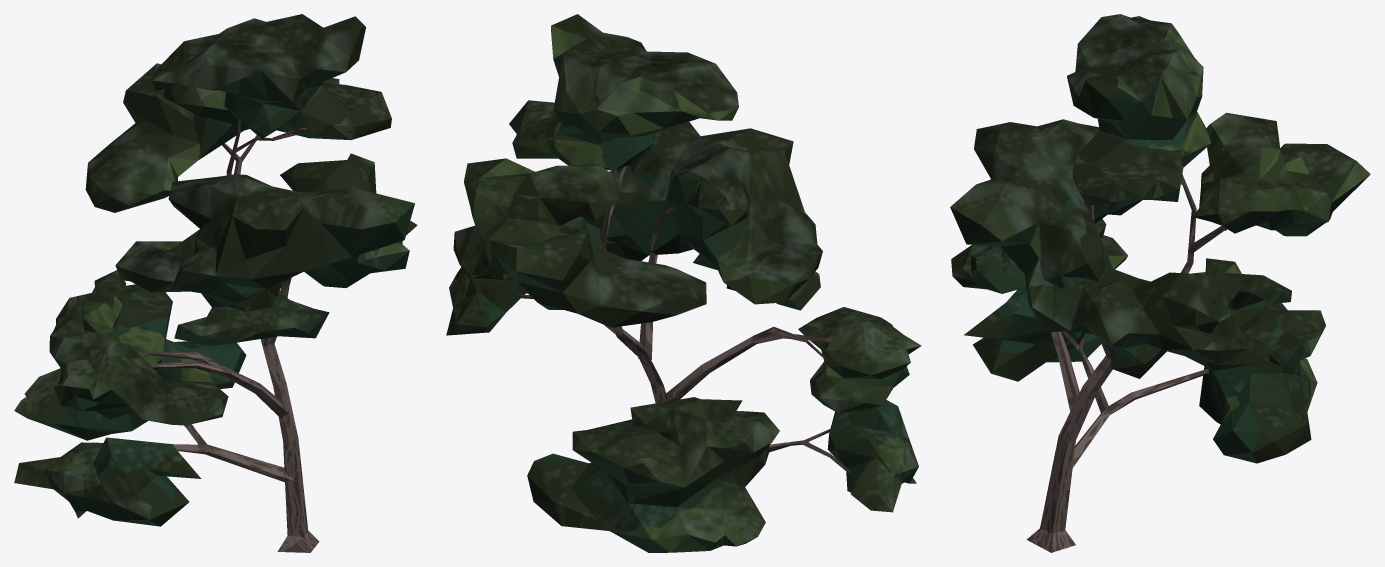
3 renders of one model, left to right at view 1: azimuth 30°, elevation 25°; view 2: azimuth 150°, elevation 25°; view 3: azimuth 270°, elevation 25°, orthographic. The views are drawn at different scales.
Visible parts, largest first — view 1: tree; view 2: tree; view 3: tree.
Part boxes in pixels (left/top/right/bottom): tree: left=14, top=14, right=417, bottom=552; tree: left=446, top=14, right=921, bottom=552; tree: left=950, top=14, right=1370, bottom=552.
Bounding box in the file's own units: 1286 × 1518 × 1148.
Materials: 1 (1 with a texture image).
